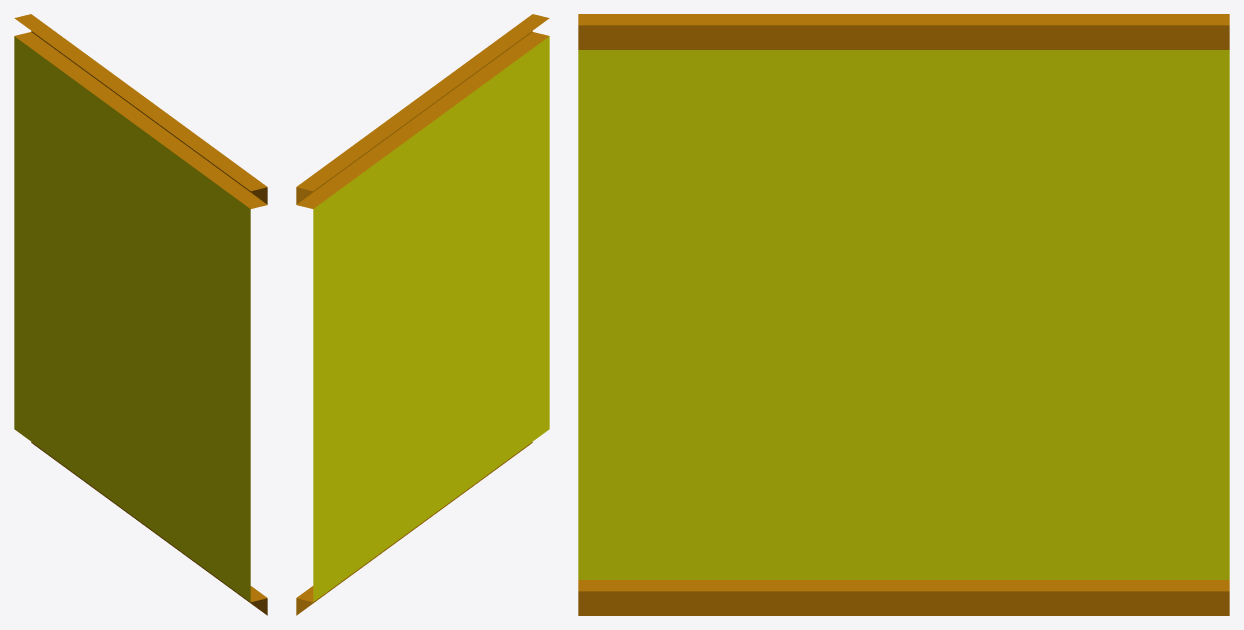
File: Mesh_Wall_b01.fbx
The picture shows the model from 3 angles, left to right: view 1: azimuth 30°, elevation 25°; view 2: azimuth 150°, elevation 25°; view 3: azimuth 270°, elevation 25°; orthographic projection. The views are drawn at different scales.
Parts seen in each view (by area): view 1: Mesh_Wall_b01; view 2: Mesh_Wall_b01; view 3: Mesh_Wall_b01.
Boxes of the visible parts, left/top/right/bottom form: Mesh_Wall_b01: left=14, top=14, right=267, bottom=615; Mesh_Wall_b01: left=296, top=14, right=549, bottom=615; Mesh_Wall_b01: left=578, top=14, right=1229, bottom=615.
Size of the model in its own units: 1 by 24 by 24.
